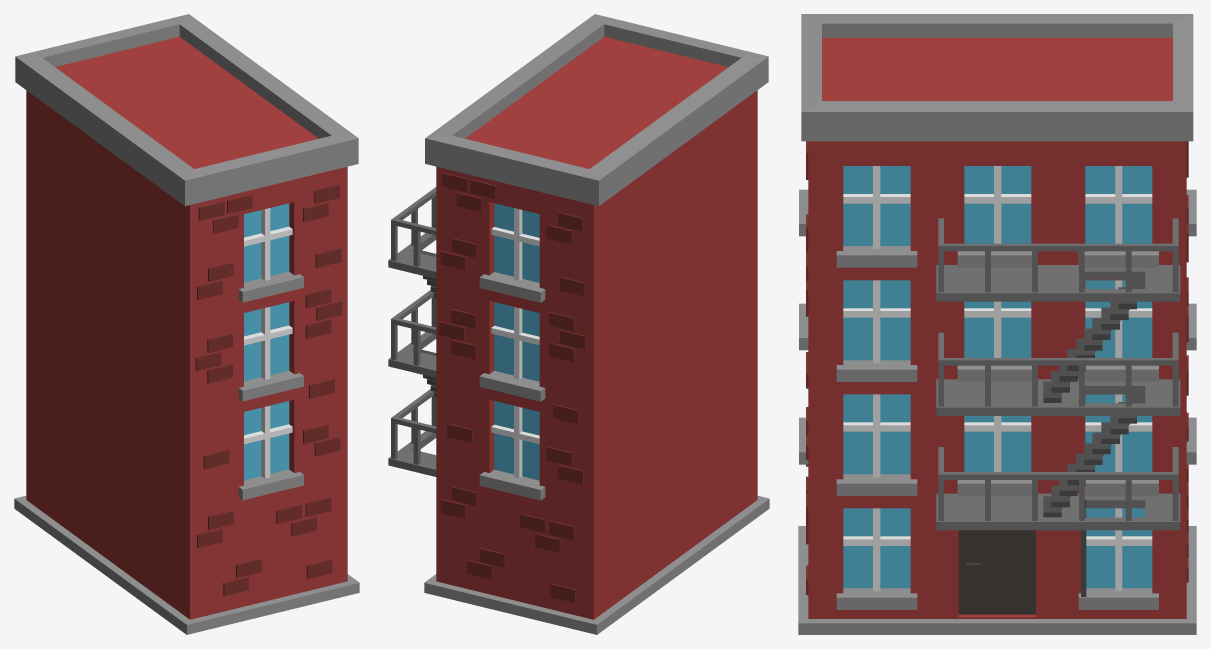
Rendered from Predio1.fbx.
3 views of the same model, side by side, from view 1: azimuth 30°, elevation 25°; view 2: azimuth 150°, elevation 25°; view 3: azimuth 270°, elevation 25° (orthographic). The views are drawn at different scales.
Visible parts, largest first — view 1: Cube, Cube.001, Cube.003; view 2: Cube, Cube.005, Cube.001, Cube.004; view 3: Cube, Cube.005, Cube.001, Cube.002, Cube.026, Cube.006.
Boxes of the visible parts, bbox=[...] form: Cube: bbox=[14, 14, 359, 634]; Cube.001: bbox=[238, 271, 303, 500]; Cube.003: bbox=[244, 208, 292, 478]; Cube: bbox=[424, 14, 769, 634]; Cube.005: bbox=[388, 187, 436, 476]; Cube.001: bbox=[479, 272, 545, 500]; Cube.004: bbox=[491, 208, 539, 478]; Cube: bbox=[798, 14, 1196, 634]; Cube.005: bbox=[936, 218, 1180, 530]; Cube.001: bbox=[799, 189, 1196, 609]; Cube.002: bbox=[843, 166, 1152, 591]; Cube.026: bbox=[1043, 277, 1145, 402]; Cube.006: bbox=[1043, 391, 1145, 517].
Bounding box in the file's own units: 3112 × 6240 × 4302.
